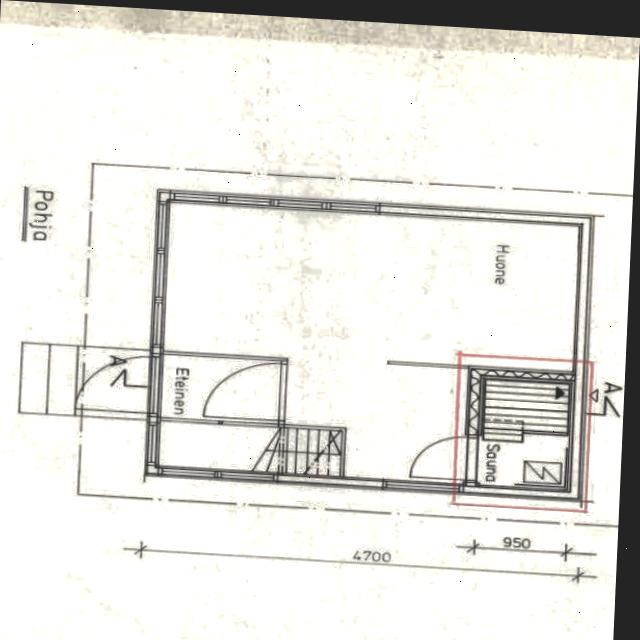room: (475, 376, 573, 492), (159, 354, 281, 424)
